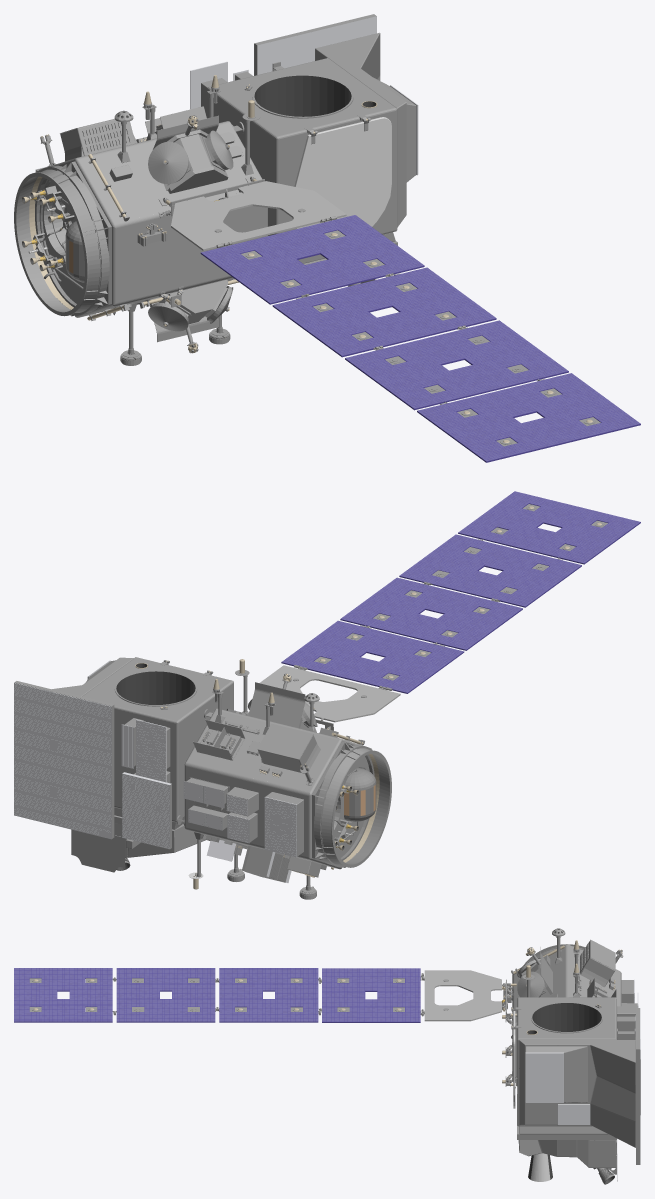
The model's file is ICESat-2.glb.
3 views of the same model, one above another, from view 1: azimuth 30°, elevation 25°; view 2: azimuth 150°, elevation 25°; view 3: azimuth 270°, elevation 25° (orthographic). The views are drawn at different scales.
Visible parts, largest first — view 1: MainBus; view 2: MainBus; view 3: MainBus.
Boxes of the visible parts, x1,y1,x2,y2 form: MainBus: (14, 14, 640, 462); MainBus: (14, 491, 640, 899); MainBus: (14, 928, 640, 1184).
Bounding box in the file's own units: 3.74 × 2.38 × 7.56.
